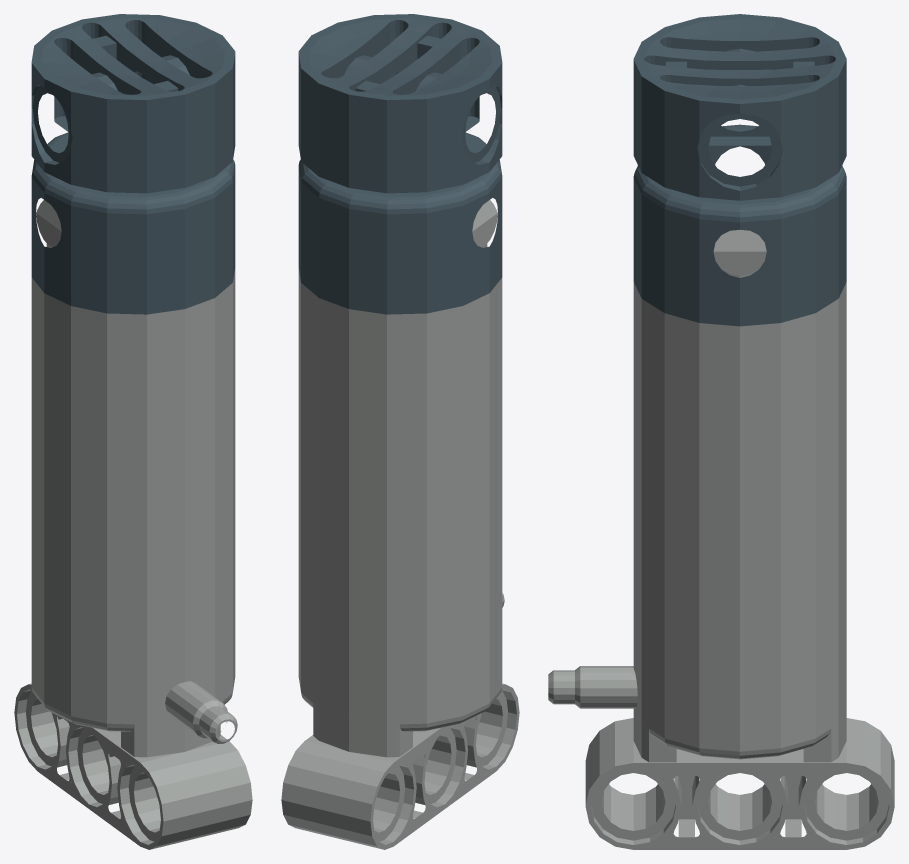
The picture shows the model from 3 angles, left to right: view 1: azimuth 30°, elevation 25°; view 2: azimuth 150°, elevation 25°; view 3: azimuth 270°, elevation 25°; orthographic projection. The views are drawn at different scales.
Parts seen in each view (by area): view 1: world; view 2: world; view 3: world.
Boxes of the visible parts, left/top/right/bottom form: world: left=14, top=14, right=252, bottom=849; world: left=281, top=14, right=519, bottom=849; world: left=548, top=14, right=894, bottom=849.
Size of the model in its own units: 0.016 by 0.0636 by 0.026.
